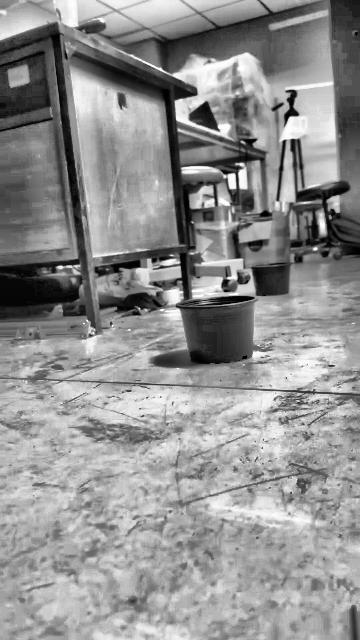pot: (176, 295, 256, 363), (251, 262, 291, 295)
